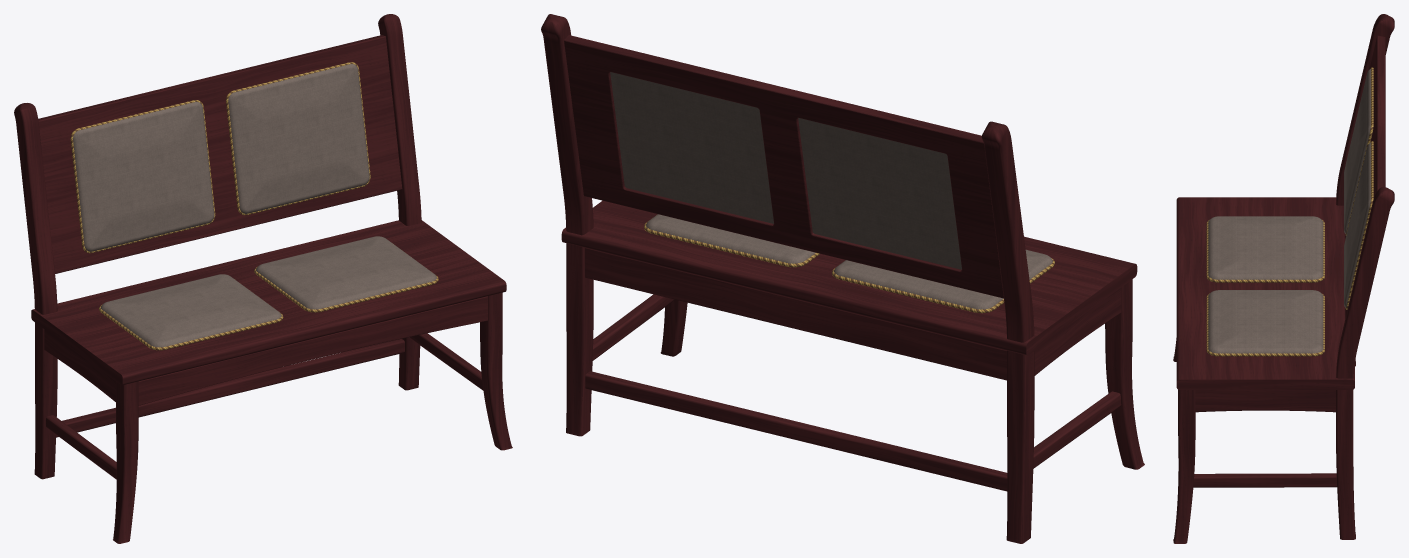
Rendered from Skameyka.fbx.
3 views of the same model, side by side, from view 1: azimuth 30°, elevation 25°; view 2: azimuth 150°, elevation 25°; view 3: azimuth 270°, elevation 25° (orthographic). The views are drawn at different scales.
Parts seen in each view (by area): view 1: Orindiq_taxtasi, Suyanchiq_ramasi, Suyanchiq_yostigi_ong, Suyanchiq_yostigi_chap, Old_tsarga, Orindiq_yostigi_chap, Orindiq_yostigi_ong, Orqa_oyoq_va_suyanchiq_ustuni_chap, Orqa_oyoq_va_suyanchiq_ustuni_ong, Orqa_tirgak, Old_oyoq_chap, Old_oyoq_ong (+7 smaller); view 2: Suyanchiq_ramasi, Orindiq_taxtasi, Suyanchiq_orqa_matosi_chap, Suyanchiq_orqa_matosi_ong, Orqa_tsarga, Orqa_oyoq_va_suyanchiq_ustuni_chap, Orqa_oyoq_va_suyanchiq_ustuni_ong, Orqa_tirgak, Old_oyoq_chap, Orindiq_yostigi_chap, Orindiq_yostigi_ong, Yon_tsarga_chap (+5 smaller); view 3: Orindiq_taxtasi, Orindiq_yostigi_chap, Orindiq_yostigi_ong, Orqa_oyoq_va_suyanchiq_ustuni_ong, Yon_tsarga_ong, Old_oyoq_ong, Yon_tirgak_ong, Suyanchiq_ramasi, Suyanchiq_yostigi_ong, Suyanchiq_yostigi_chap, Orqa_oyoq_va_suyanchiq_ustuni_chap, Orindiq_shnuri_ong (+3 smaller).
Boxes of the visible parts, x1,y1,x2,y2 form: Orindiq_taxtasi: [31, 220, 506, 385]; Suyanchiq_ramasi: [38, 35, 402, 273]; Suyanchiq_yostigi_ong: [228, 64, 369, 213]; Suyanchiq_yostigi_chap: [73, 102, 214, 251]; Old_tsarga: [138, 296, 487, 405]; Orindiq_yostigi_chap: [101, 274, 281, 347]; Orindiq_yostigi_ong: [256, 236, 436, 309]; Orqa_oyoq_va_suyanchiq_ustuni_chap: [14, 103, 57, 479]; Orqa_oyoq_va_suyanchiq_ustuni_ong: [378, 14, 421, 390]; Orqa_tirgak: [56, 339, 404, 437]; Old_oyoq_chap: [113, 381, 138, 543]; Old_oyoq_ong: [480, 292, 512, 450]; Suyanchiq_ramasi: [564, 35, 1003, 298]; Orindiq_taxtasi: [561, 200, 1137, 355]; Suyanchiq_orqa_matosi_chap: [798, 118, 961, 269]; Suyanchiq_orqa_matosi_ong: [610, 72, 773, 223]; Orqa_tsarga: [585, 248, 1006, 380]; Orqa_oyoq_va_suyanchiq_ustuni_chap: [981, 121, 1034, 543]; Orqa_oyoq_va_suyanchiq_ustuni_ong: [541, 14, 593, 436]; Orqa_tirgak: [585, 371, 1007, 491]; Old_oyoq_chap: [1105, 279, 1144, 469]; Orindiq_yostigi_chap: [834, 249, 1052, 309]; Orindiq_yostigi_ong: [646, 214, 815, 263]; Yon_tsarga_chap: [1034, 288, 1121, 375]; Orindiq_taxtasi: [1176, 197, 1354, 389]; Orindiq_yostigi_chap: [1208, 216, 1323, 279]; Orindiq_yostigi_ong: [1208, 290, 1323, 353]; Orqa_oyoq_va_suyanchiq_ustuni_ong: [1336, 187, 1394, 539]; Yon_tsarga_ong: [1195, 390, 1335, 412]; Old_oyoq_ong: [1173, 389, 1195, 543]; Yon_tirgak_ong: [1193, 473, 1337, 487]; Suyanchiq_ramasi: [1345, 35, 1385, 318]; Suyanchiq_yostigi_ong: [1344, 142, 1370, 307]; Suyanchiq_yostigi_chap: [1344, 69, 1370, 233]; Orqa_oyoq_va_suyanchiq_ustuni_chap: [1336, 14, 1394, 366]; Orindiq_shnuri_ong: [1206, 293, 1324, 356].
Bounding box in the file's own units: 1.15 × 0.9885 × 0.5703.
Materials: 3 (3 with a texture image).
